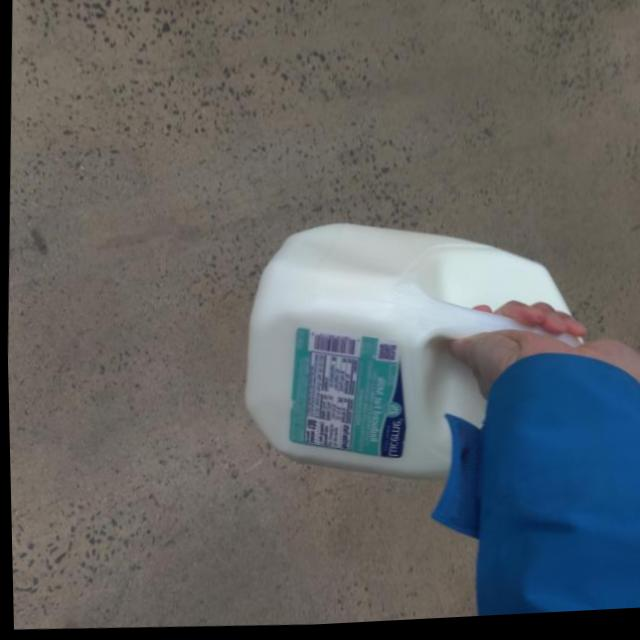Milk: (221, 211, 598, 499)
